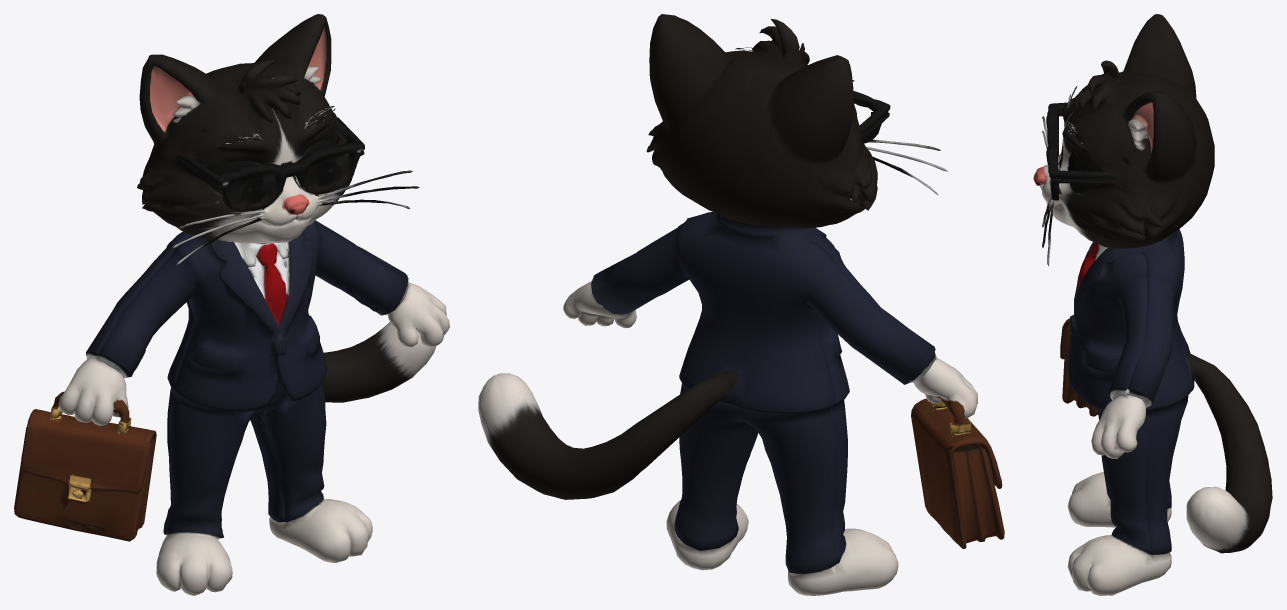
File: mitsi-catb-3d.glb
3 views of the same model, side by side, from view 1: azimuth 30°, elevation 25°; view 2: azimuth 150°, elevation 25°; view 3: azimuth 270°, elevation 25° (orthographic). The views are drawn at different scales.
Parts seen in each view (by area): view 1: tripo_node_7fc573cd-b2a2-4f0b-ad24-6d3bec14eeb1; view 2: tripo_node_7fc573cd-b2a2-4f0b-ad24-6d3bec14eeb1; view 3: tripo_node_7fc573cd-b2a2-4f0b-ad24-6d3bec14eeb1.
Part boxes in pixels (<box>): tripo_node_7fc573cd-b2a2-4f0b-ad24-6d3bec14eeb1: <box>14,14,449,595</box>; tripo_node_7fc573cd-b2a2-4f0b-ad24-6d3bec14eeb1: <box>478,14,1004,595</box>; tripo_node_7fc573cd-b2a2-4f0b-ad24-6d3bec14eeb1: <box>1033,14,1272,595</box>.
Bounding box in the file's own units: 0.9087 × 0.9775 × 0.4266.
1 material, 1 textured.
